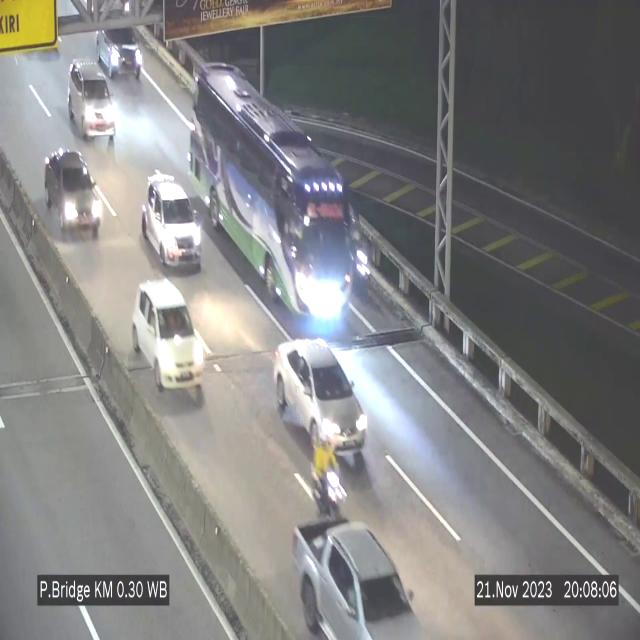Bus: (191, 62, 357, 328)
Car: (281, 509, 429, 640), (274, 340, 368, 457), (130, 276, 206, 398), (36, 144, 104, 240), (142, 175, 202, 269), (92, 4, 148, 82), (68, 62, 114, 146)
Motorcycle: (313, 435, 349, 527), (349, 224, 372, 300)
